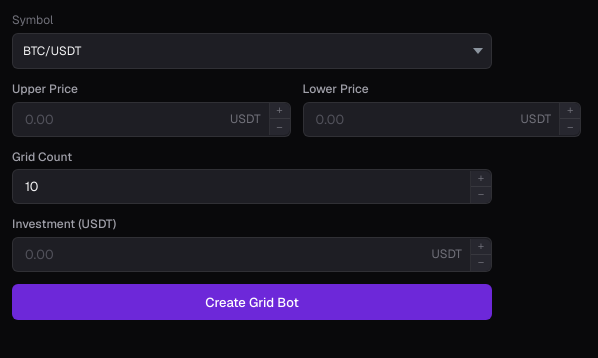
Test: GridBotForm › rejects when upper price is below lower price (inverted range)
The image size is (598, 358).
Type "50000" into the field labelled "Upper Price". click: {"x": 118, "y": 119}
box: [13, 103, 222, 136]
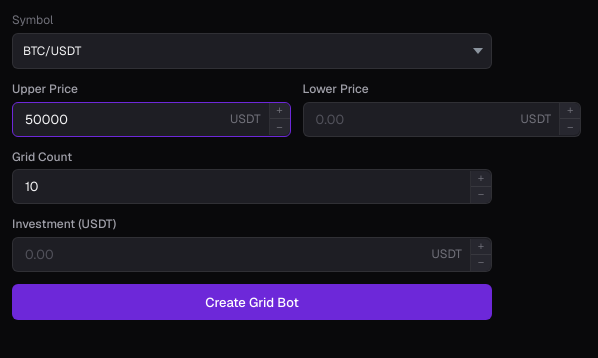
Type "60000" into the field labelled "Lower Price". click: {"x": 408, "y": 119}
box: [304, 103, 513, 136]
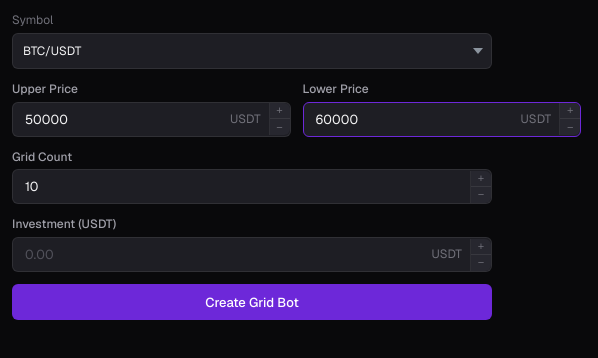
Type "1000" into the field labelled "Investment (USDT)". click: {"x": 218, "y": 255}
box: [13, 238, 423, 271]
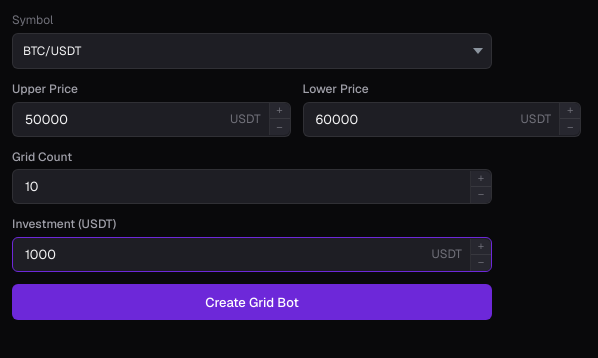
Click the button "Create Grid Bot". click: {"x": 252, "y": 302}
box: [12, 284, 492, 320]
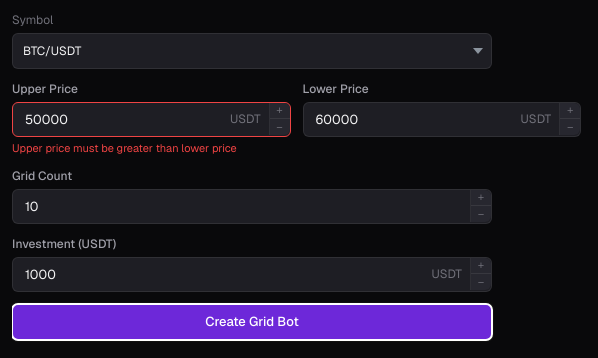
Expected: the text "Upper price must be greater than lower price" is shown, [12, 141, 237, 155]
